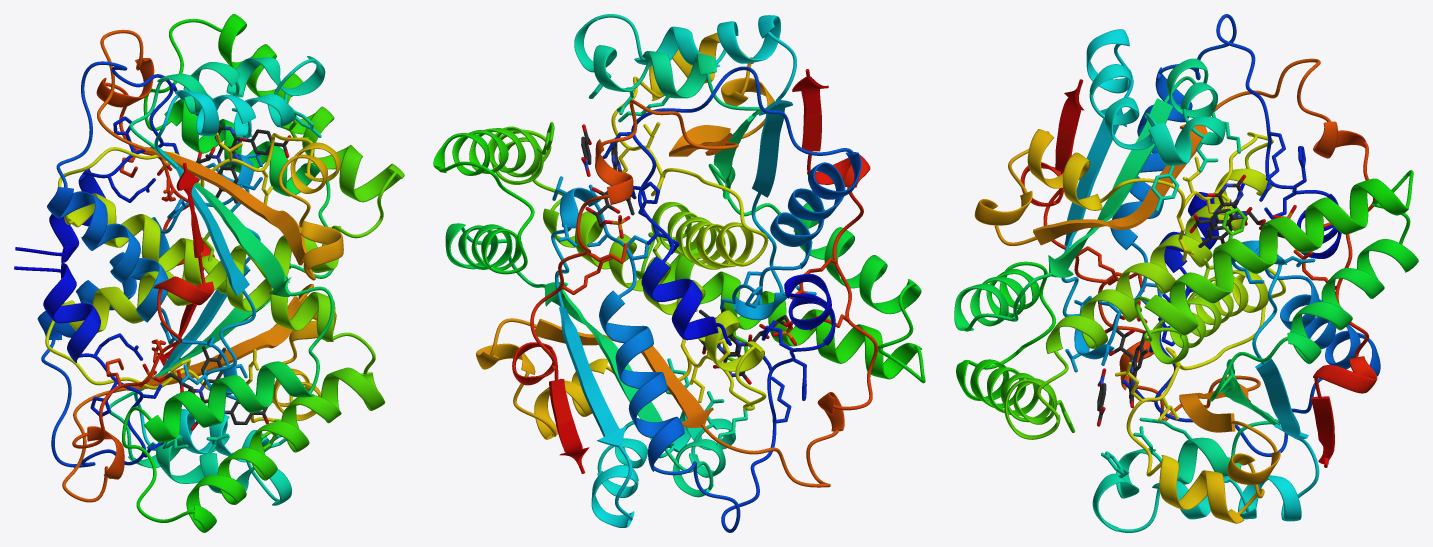
The picture shows the model from 3 angles, left to right: view 1: azimuth 30°, elevation 25°; view 2: azimuth 150°, elevation 25°; view 3: azimuth 270°, elevation 25°; orthographic projection. The views are drawn at different scales.
Parts seen in each view (by area): view 1: ribbons mesh, bonds, atoms; view 2: ribbons mesh, bonds, atoms; view 3: ribbons mesh, bonds, atoms.
Boxes of the visible parts, x1,y1,x2,y2 form: ribbons mesh: (14,14,404,532); bonds: (90,83,320,457); atoms: (90,83,321,457); ribbons mesh: (433,14,925,532); bonds: (537,72,849,447); atoms: (542,75,843,434); ribbons mesh: (954,14,1418,532); bonds: (1052,112,1336,478); atoms: (1060,122,1339,474).
Bounding box in the file's own units: 45.95 × 54.8 × 50.72.
